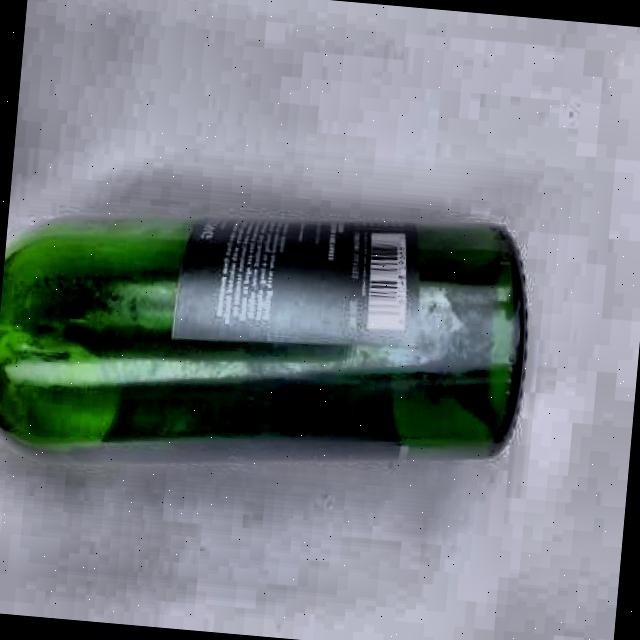glass: (0, 177, 540, 507)
